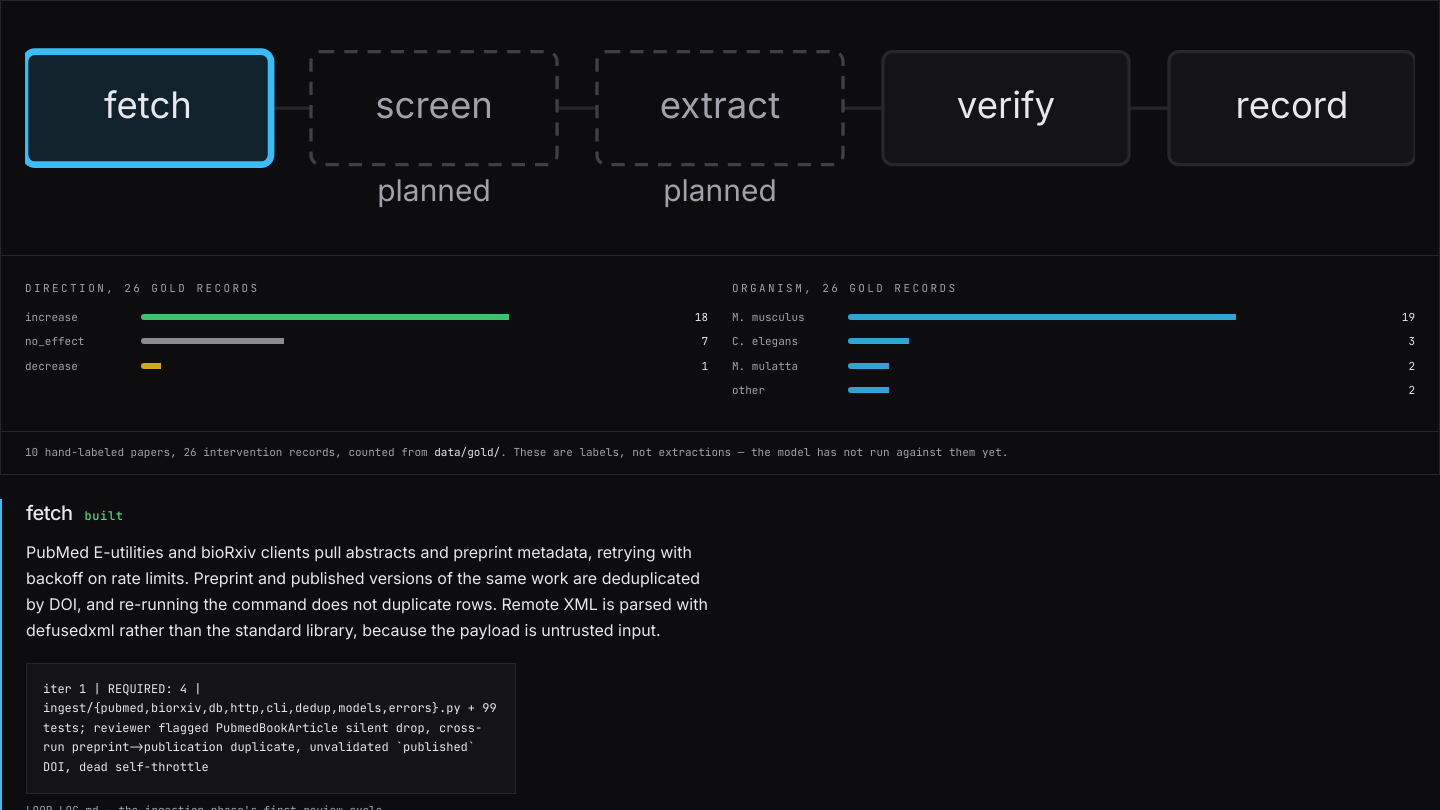
Test: LifespanFunnel › opens a stage's detail and its cited excerpt on selection
This screenshot has width=1440, height=810.
Click the 5th button named "record, built": [1292, 108] box [1169,52,1415,165]
(page scrolled)
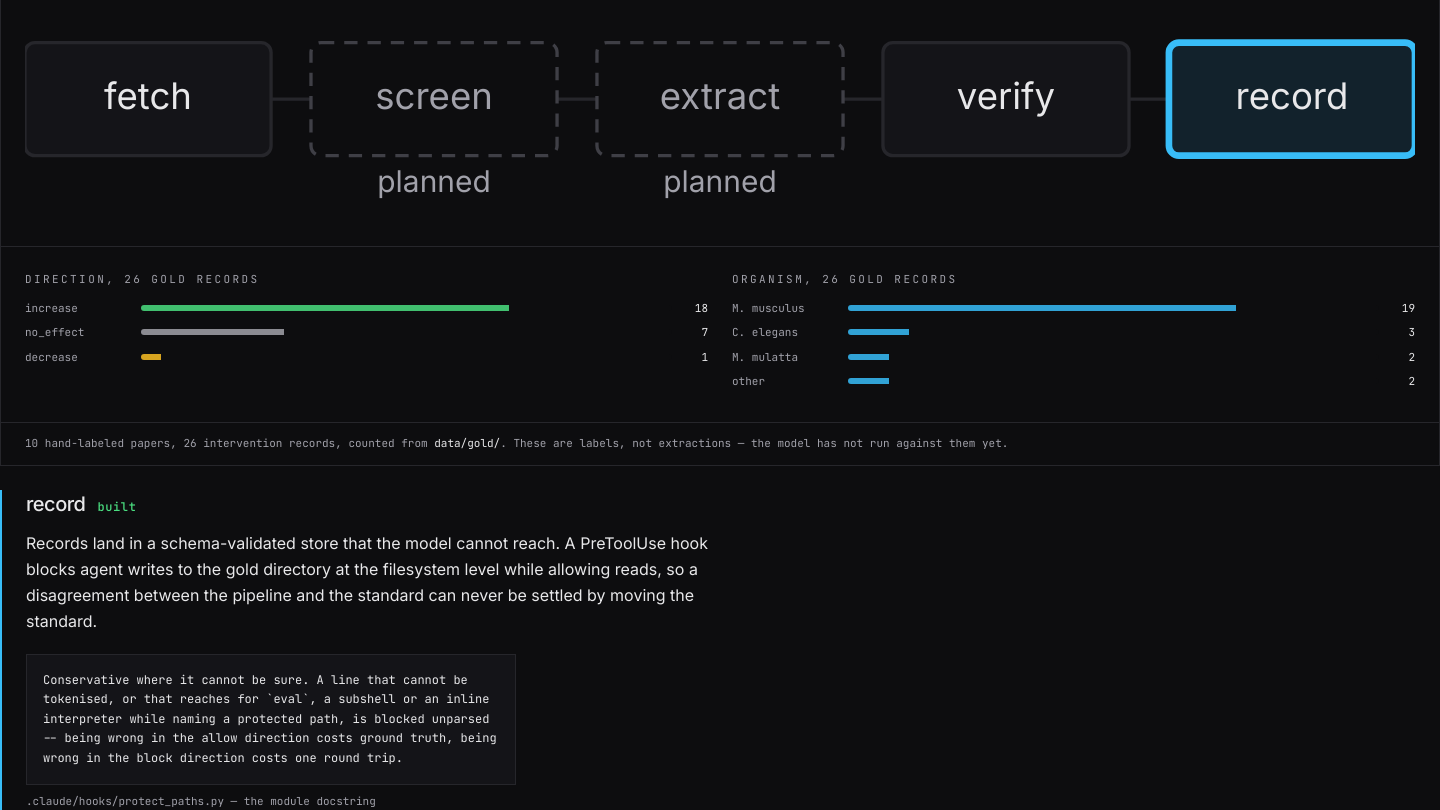
expect the heading "record" is shown: met, box [26,492,136,516]
expect the text ".claude/hooks/protect_paths.py — the module docstring" is shown: met, box [26,794,376,808]
